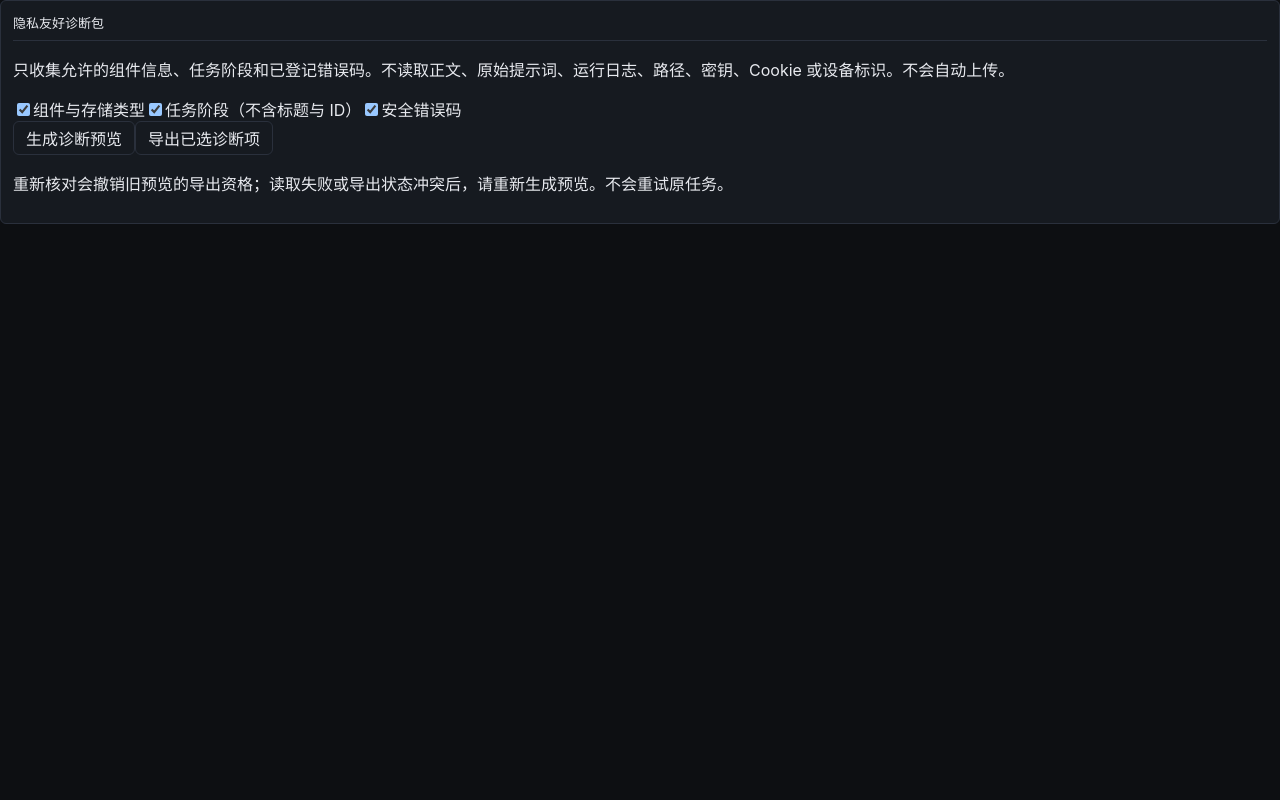
makes bounded coverage and unknown result guidance visible without executing a task
Step 1. Click the button "生成诊断预览" → (74, 138), box 13,121 -> 135,155
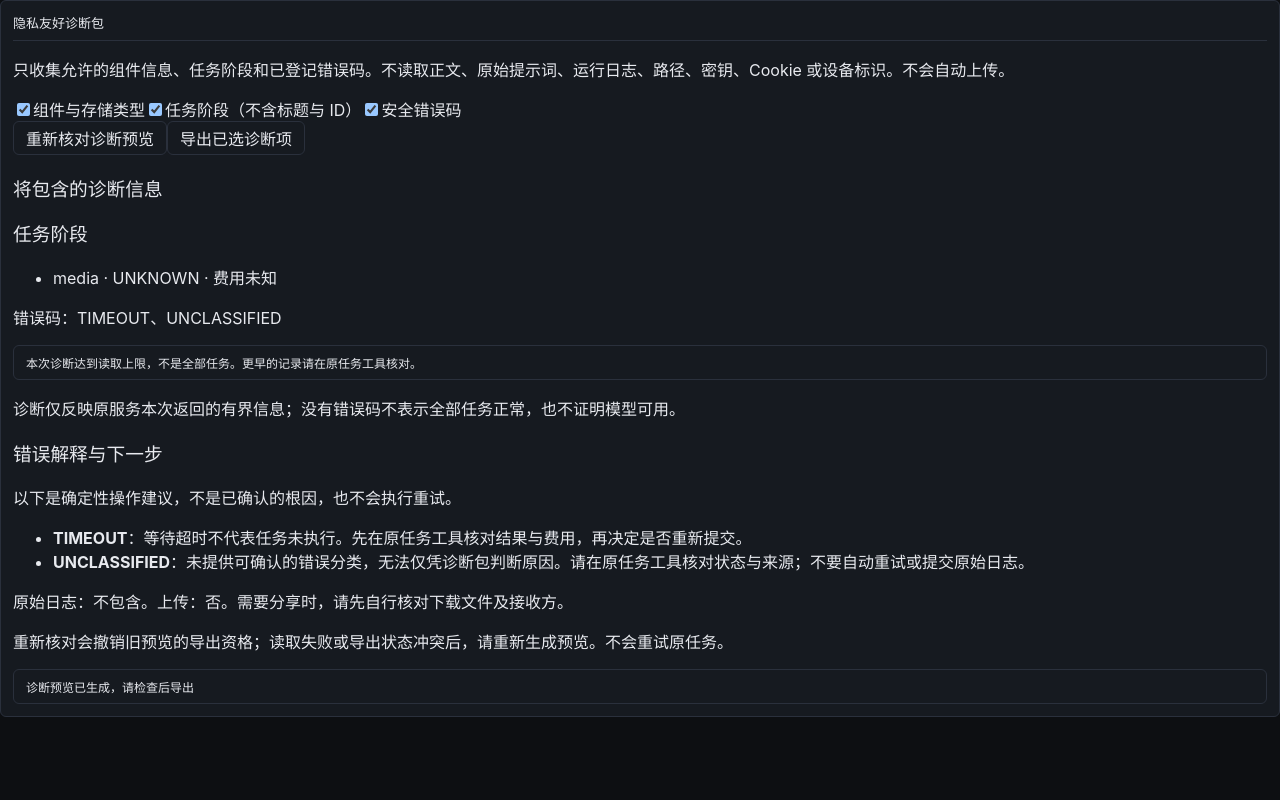
Check: the text "本次诊断达到读取上限，不是全部任务。更早的记录请在原任务工具核对。" is shown, box 13,345 -> 1267,380
Check: the list item "TIMEOUT：等待超时不代表任务未执行。先在原任务工具核对结果与费用，再决定是否重新提交。" is shown, box 53,528 -> 752,548
Check: the list item "未提供可确认的错误分类" is shown, box 186,552 -> 1034,572
